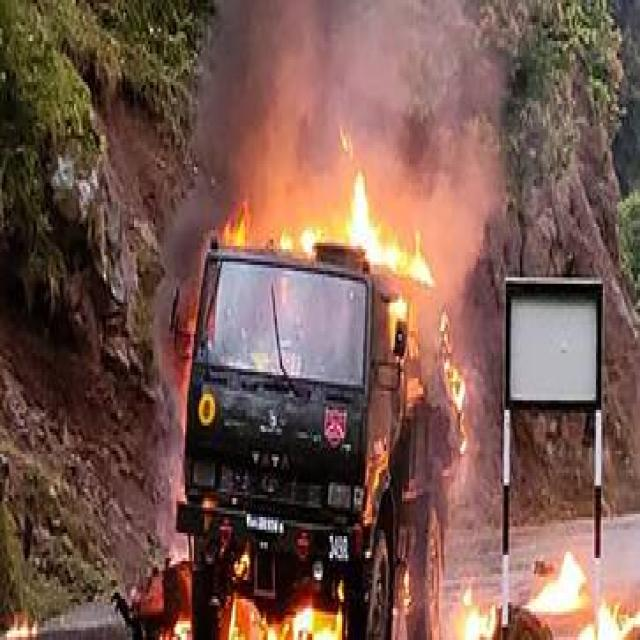accident: (176, 244, 450, 639)
